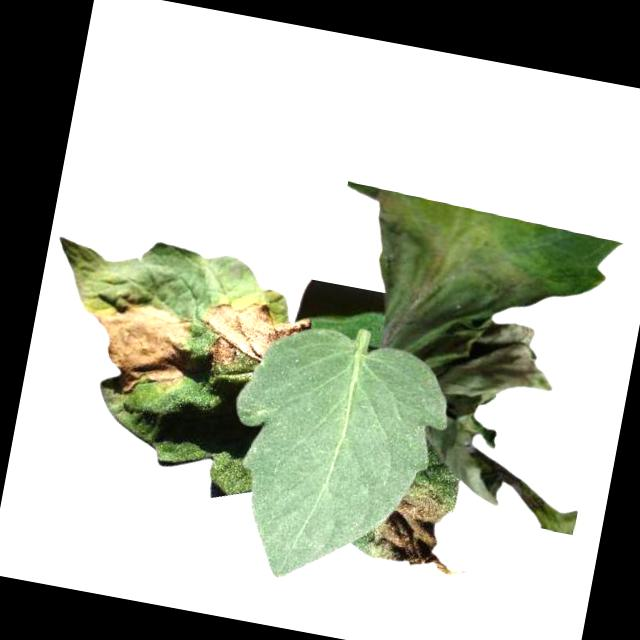Late_blight: (408, 306, 618, 534), (351, 189, 561, 376), (78, 289, 200, 407), (368, 481, 477, 581), (197, 292, 313, 383)
